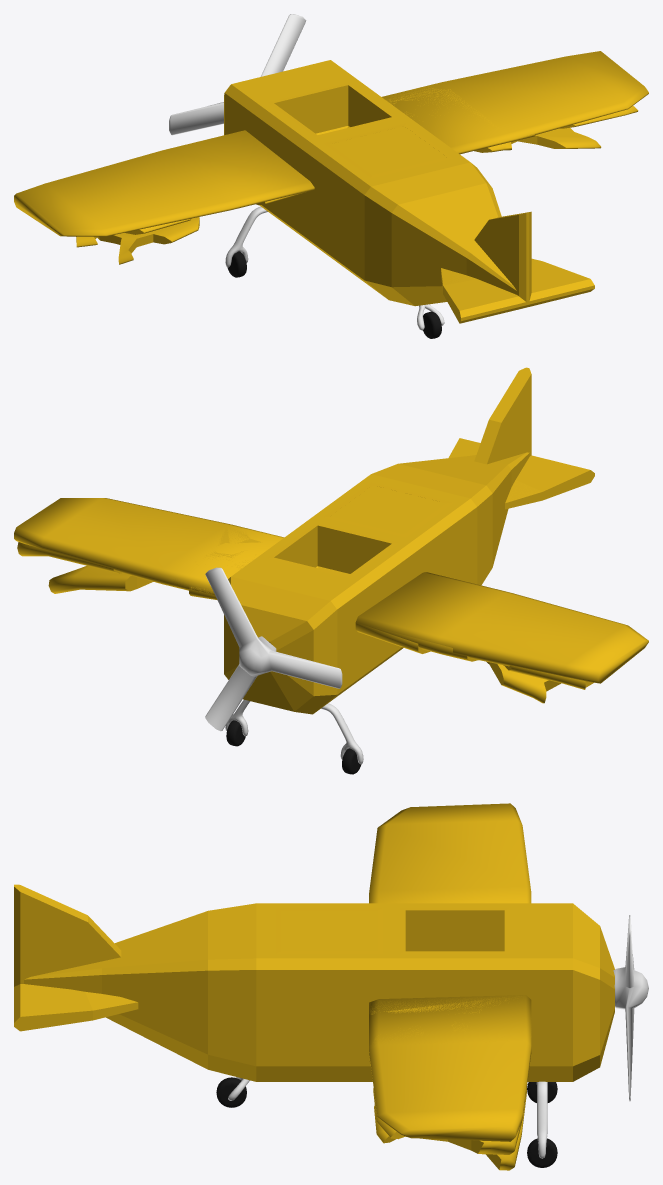
3 renders of one model, top to bottom at view 1: azimuth 30°, elevation 25°; view 2: azimuth 150°, elevation 25°; view 3: azimuth 270°, elevation 25°, orthographic. The views are drawn at different scales.
Parts seen in each view (by area): view 1: Body, WingL, WingR, BackseatCover, Propeller, WingLBroken2, WingRBroken2, WingRBroken, LandingGear, WingLBroken; view 2: Body, WingL, WingR, Propeller, BackseatCover, WingRBroken2, WingLBroken2, WingRBroken, WingLBroken, LandingGear; view 3: Body, WingR, WingL, BackseatCover, WingRBroken, Propeller, LandingGear, WingRBroken2, Tire1, Tire2.
Part boxes in pixels (x1=…): Body: x1=224, y1=60, x2=594, y2=323; WingL: x1=14, y1=130, x2=314, y2=236; WingR: x1=382, y1=51, x2=648, y2=154; BackseatCover: x1=330, y1=126, x2=589, y2=310; Propeller: x1=169, y1=14, x2=306, y2=135; WingLBroken2: x1=97, y1=190, x2=312, y2=264; WingRBroken2: x1=474, y1=128, x2=601, y2=152; WingRBroken: x1=382, y1=86, x2=638, y2=144; LandingGear: x1=225, y1=206, x2=444, y2=330; WingLBroken: x1=76, y1=218, x2=190, y2=247; Body: x1=224, y1=367, x2=594, y2=714; WingL: x1=356, y1=572, x2=648, y2=683; WingR: x1=14, y1=498, x2=284, y2=594; Propeller: x1=205, y1=567, x2=342, y2=731; BackseatCover: x1=330, y1=377, x2=587, y2=534; WingRBroken2: x1=48, y1=566, x2=217, y2=599; WingLBroken2: x1=355, y1=622, x2=560, y2=703; WingRBroken: x1=17, y1=524, x2=260, y2=594; WingLBroken: x1=358, y1=623, x2=593, y2=689; LandingGear: x1=225, y1=699, x2=363, y2=764; Body: x1=14, y1=884, x2=614, y2=1081; WingR: x1=369, y1=995, x2=531, y2=1141; WingL: x1=369, y1=803, x2=531, y2=903; BackseatCover: x1=20, y1=893, x2=377, y2=1020; WingRBroken: x1=369, y1=995, x2=531, y2=1154; Propeller: x1=613, y1=915, x2=648, y2=1101; LandingGear: x1=228, y1=1077, x2=547, y2=1158; WingRBroken2: x1=369, y1=1053, x2=526, y2=1170; Tire1: x1=216, y1=1077, x2=246, y2=1107; Tire2: x1=527, y1=1138, x2=557, y2=1167.
Size of the model in its own units: 4.82 by 1.74 by 4.01.
